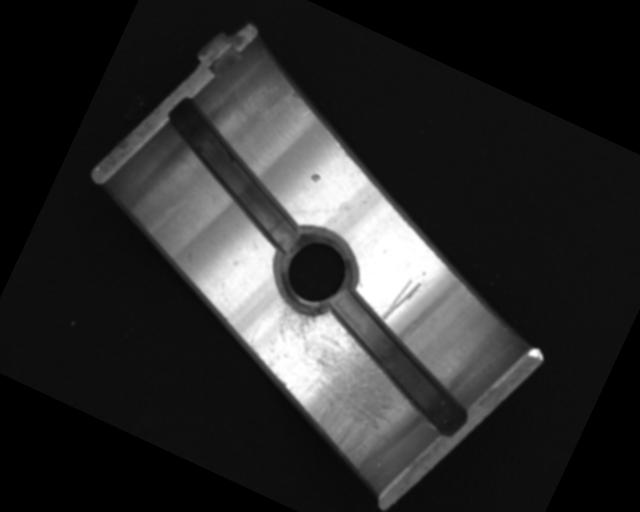bruise: (307, 171, 322, 185)
gap: (138, 95, 335, 257), (303, 286, 496, 441)
hole: (260, 219, 371, 327)
nick: (380, 273, 423, 330)
scratch: (226, 293, 418, 473)
